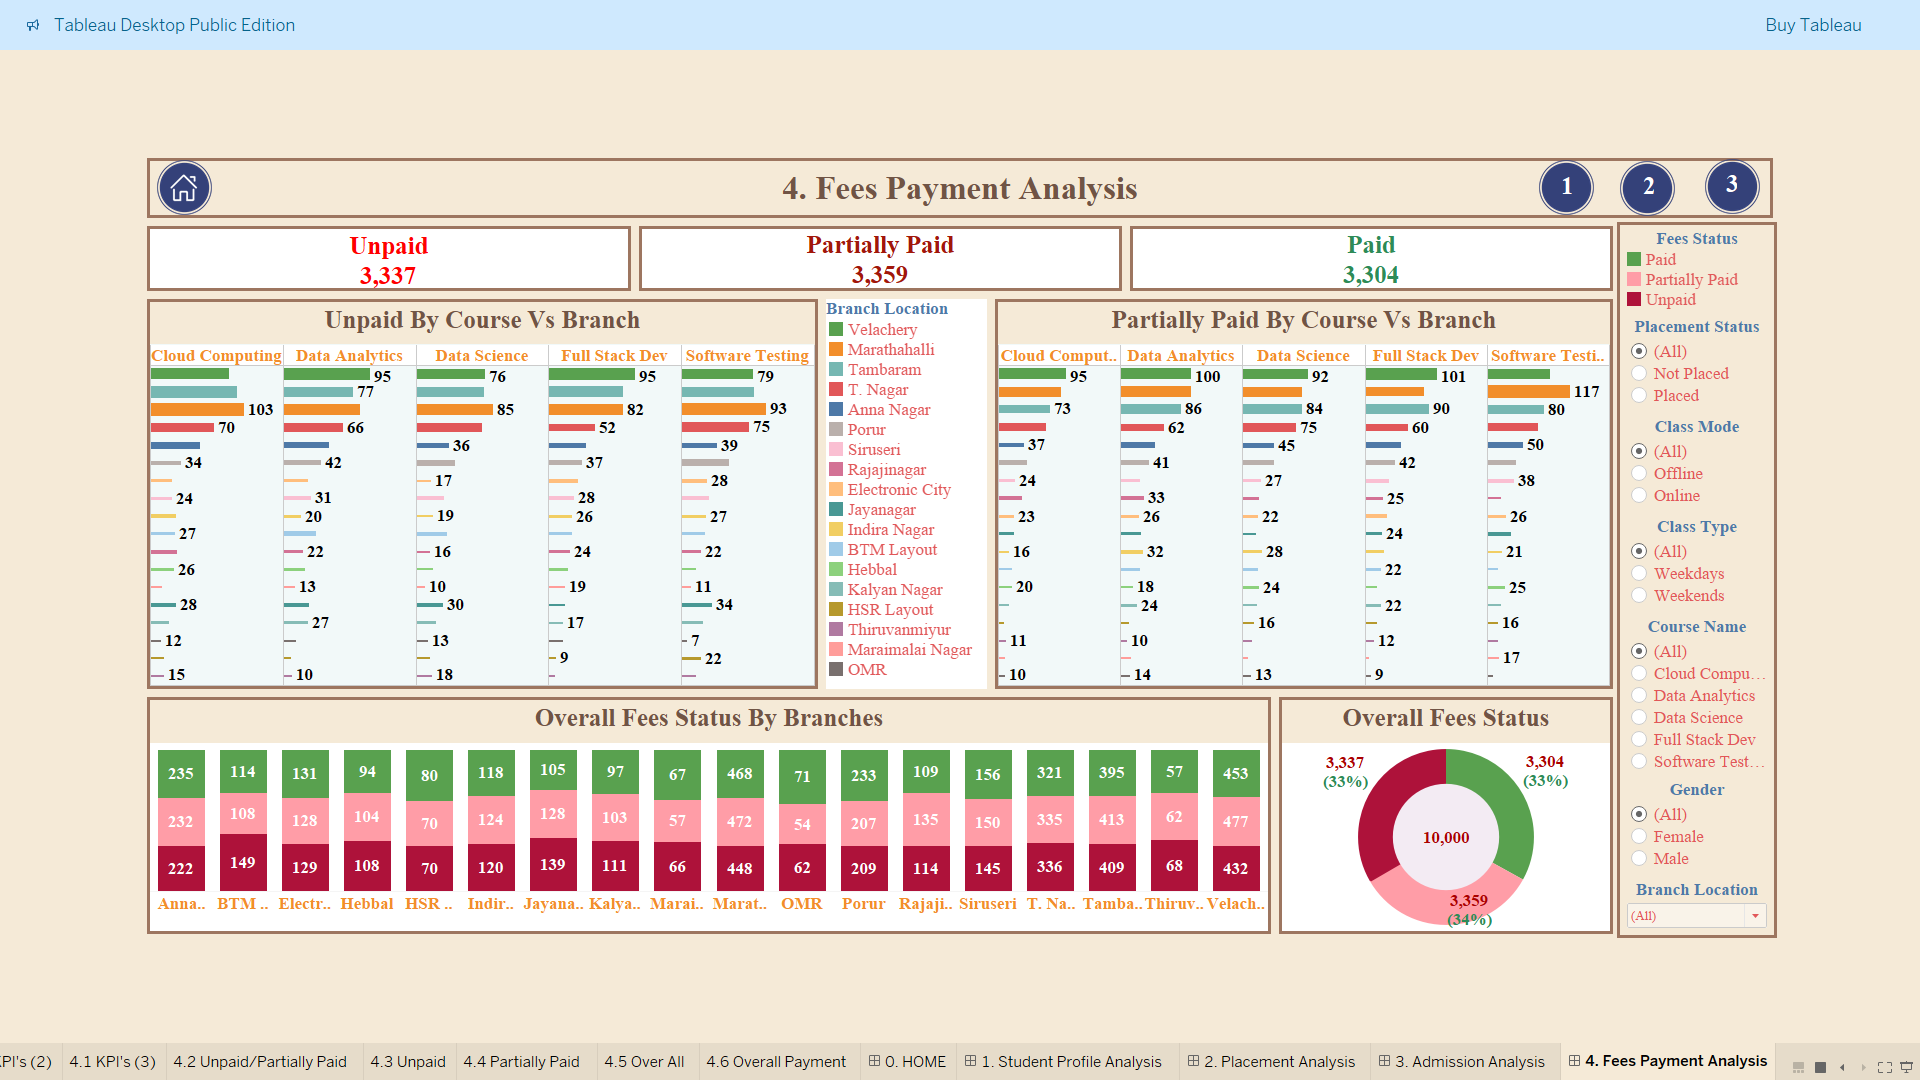

The page's visual inventory and layout, read from the dashboard file:
{"tool":"tableau","page":{"name":"4. Fees Payment Analysis","canvas":[1650,800],"ordinal":4},"visuals":[{"type":"title","box":[8,8,1634,68]},{"type":"dashboard-object","box":[1560,12,75,56]},{"type":"dashboard-object","box":[12,13,75,56]},{"type":"dashboard-object","box":[1394,13,75,56]},{"type":"dashboard-object","box":[1475,14,75,56]},{"type":"dashboard-object","box":[1576,17,41,43]},{"type":"dashboard-object","box":[1411,19,41,43]},{"type":"dashboard-object","box":[1493,19,41,43]},{"type":"dashboard-object","box":[14,22,66,43]},{"type":"worksheet","title":"4.1 KPI's (3)","mark":"Automatic","cols":["fees_status"],"box":[8,76,492,73]},{"type":"worksheet","title":"4.1 KPI's (2)","mark":"Automatic","cols":["fees_status"],"box":[500,76,491,73]},{"type":"worksheet","title":"4.1 KPI's","mark":"Automatic","cols":["fees_status"],"box":[991,76,491,73]},{"type":"legend","title":"4.5 Over All ","param":"[federated.0crg0jv1wgj5h01fkr3i003pinum].[none:fees_status:nk]","box":[1485,79,154,88]},{"type":"worksheet","title":"4.3 Unpaid","mark":"Automatic","rows":["branch_location"],"cols":["course_name","enrollment!data_2EB24D174C104C0294050362F8588BED"],"box":[8,149,679,398]},{"type":"legend","title":"4.4 Partially Paid ","param":"[federated.0crg0jv1wgj5h01fkr3i003pinum].[none:branch_location:nk]","box":[687,149,169,398]},{"type":"worksheet","title":"4.4 Partially Paid ","mark":"Automatic","rows":["branch_location"],"cols":["course_name","enrollment!data_2EB24D174C104C0294050362F8588BED"],"box":[856,149,626,398]},{"type":"filter","title":"4.4 Partially Paid ","param":"[federated.0crg0jv1wgj5h01fkr3i003pinum].[none:placement_status:nk]","box":[1485,167,154,100]},{"type":"filter","title":"4.4 Partially Paid ","param":"[federated.0crg0jv1wgj5h01fkr3i003pinum].[none:class_mode:nk]","box":[1485,267,154,100]},{"type":"filter","title":"4.4 Partially Paid ","param":"[federated.0crg0jv1wgj5h01fkr3i003pinum].[none:class_type:nk]","box":[1485,367,154,100]},{"type":"filter","title":"4.4 Partially Paid ","param":"[federated.0crg0jv1wgj5h01fkr3i003pinum].[none:course_name:nk]","box":[1485,467,154,163]},{"type":"worksheet","title":"4.5 Over All ","mark":"Automatic","cols":["branch_location"],"box":[8,547,1132,245]},{"type":"worksheet","title":"4.6 Overall Payment","mark":"Pie","cols":["Calculation_1749085530738364417","Calculation_1749085530738364417"],"box":[1140,547,342,245]},{"type":"filter","title":"4.4 Partially Paid ","param":"[federated.0crg0jv1wgj5h01fkr3i003pinum].[none:gender:nk]","box":[1485,630,154,100]},{"type":"filter","title":"4.4 Partially Paid ","param":"[federated.0crg0jv1wgj5h01fkr3i003pinum].[none:branch_location:nk]","box":[1485,730,154,59]}]}

Visuals, with their boxes on the page's 1650x800 design canvas (x1, y1, x2, y2). These are canvas units, not pixel positions in the 1920x1080 screenshot, which may show the page scaled, cropped or inside an application window:
title: 8/8/1642/76
dashboard-object: 1560/12/1635/68
dashboard-object: 12/13/87/69
dashboard-object: 1394/13/1469/69
dashboard-object: 1475/14/1550/70
dashboard-object: 1576/17/1617/60
dashboard-object: 1411/19/1452/62
dashboard-object: 1493/19/1534/62
dashboard-object: 14/22/80/65
"4.1 KPI's (3)" worksheet: 8/76/500/149
"4.1 KPI's (2)" worksheet: 500/76/991/149
"4.1 KPI's" worksheet: 991/76/1482/149
"4.5 Over All " legend: 1485/79/1639/167
"4.3 Unpaid" worksheet: 8/149/687/547
"4.4 Partially Paid " legend: 687/149/856/547
"4.4 Partially Paid " worksheet: 856/149/1482/547
"4.4 Partially Paid " filter: 1485/167/1639/267
"4.4 Partially Paid " filter: 1485/267/1639/367
"4.4 Partially Paid " filter: 1485/367/1639/467
"4.4 Partially Paid " filter: 1485/467/1639/630
"4.5 Over All " worksheet: 8/547/1140/792
"4.6 Overall Payment" worksheet (Pie marks): 1140/547/1482/792
"4.4 Partially Paid " filter: 1485/630/1639/730
"4.4 Partially Paid " filter: 1485/730/1639/789
